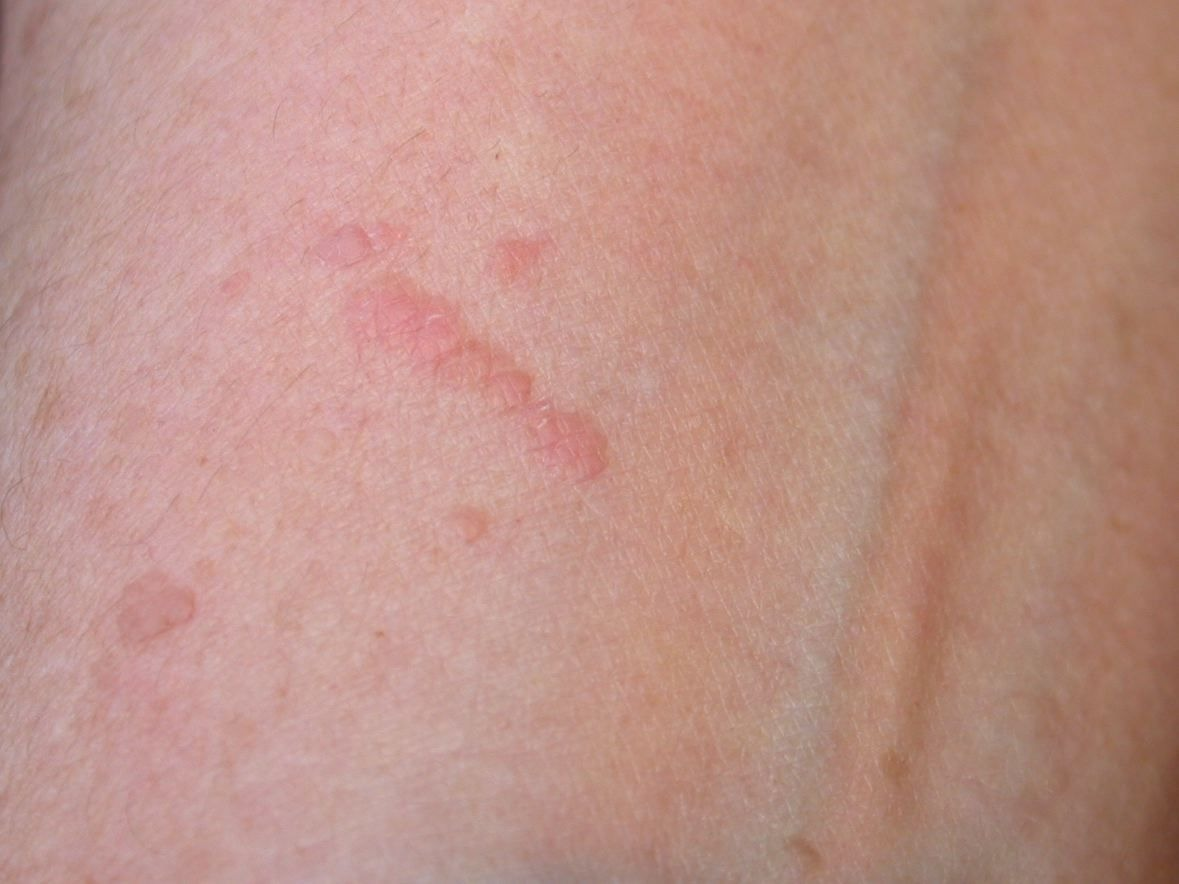Warts: (79, 182, 623, 683)
